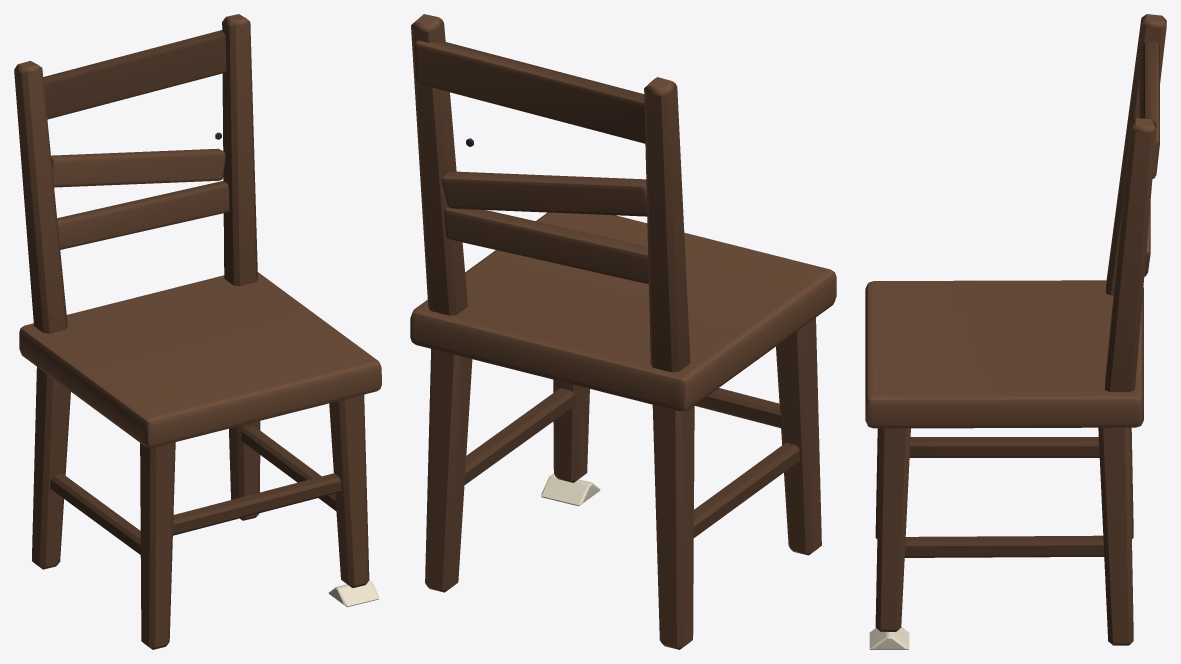
The model's file is chair_creaky.glb.
3 renders of one model, left to right at view 1: azimuth 30°, elevation 25°; view 2: azimuth 150°, elevation 25°; view 3: azimuth 270°, elevation 25°, orthographic. The views are drawn at different scales.
Parts seen in each view (by area): view 1: chair_creaky; view 2: chair_creaky; view 3: chair_creaky.
Part boxes in pixels (left/top/right/bottom): chair_creaky: left=14, top=14, right=381, bottom=649; chair_creaky: left=410, top=14, right=836, bottom=649; chair_creaky: left=865, top=14, right=1166, bottom=649.
Size of the model in its own units: 0.4802 by 0.9494 by 0.4973.
